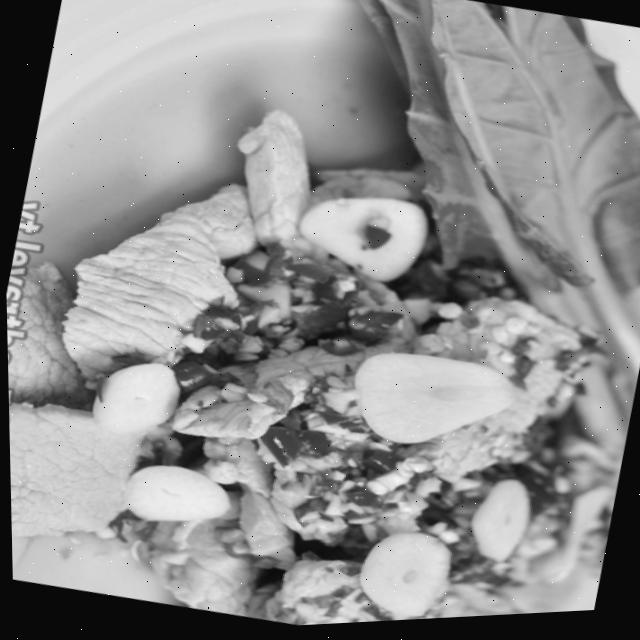猪肉菜式: (1, 45, 640, 640)
